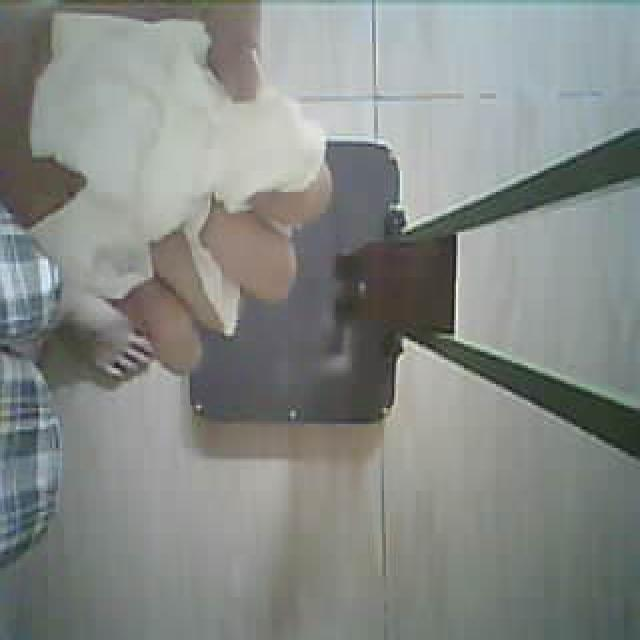Paper: (41, 0, 330, 329)
